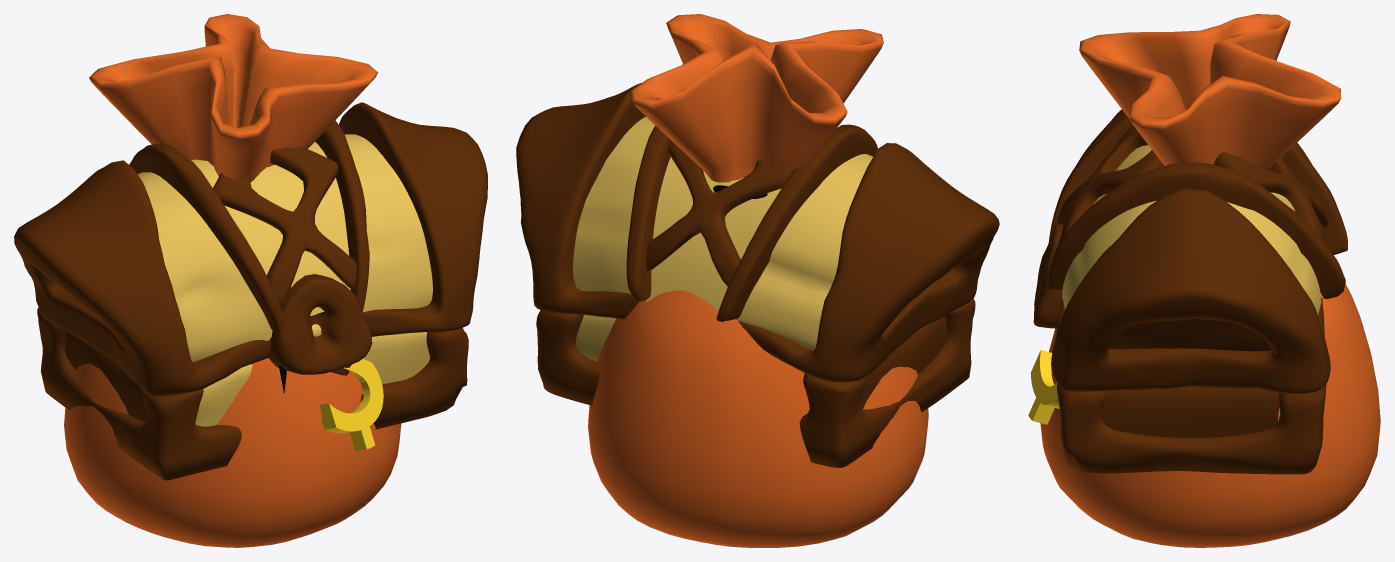
File: Chest.fbx
3 renders of one model, left to right at view 1: azimuth 30°, elevation 25°; view 2: azimuth 150°, elevation 25°; view 3: azimuth 270°, elevation 25°, orthographic.
Parts seen in each view (by area): view 1: chest.016, Money_Bag; view 2: chest.016, Money_Bag; view 3: chest.016, Money_Bag.
Boxes of the visible parts, x1,y1,x2,y2 form: chest.016: (14,102,487,480); Money_Bag: (64,14,401,547); chest.016: (516,83,999,467); Money_Bag: (588,14,928,547); chest.016: (1033,109,1347,474); Money_Bag: (1028,14,1380,547).
Bounding box in the file's own units: 16.67 × 16.65 × 11.41.
